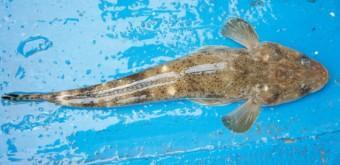fish: (1, 17, 331, 134)
